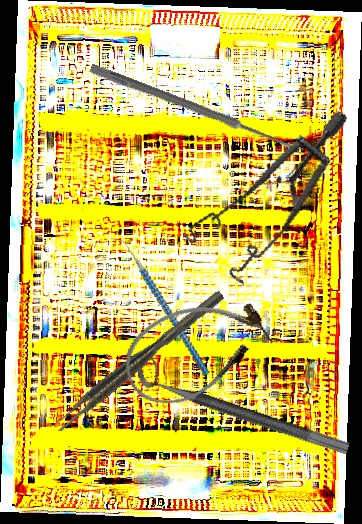Cannula: (110, 280, 281, 420)
Chopper: (109, 221, 211, 390)
Fixation Ring: (134, 351, 357, 457)
Speculum: (174, 80, 348, 301)
Surgical Spoon: (88, 63, 306, 156)
Tissue Forceps: (50, 289, 229, 435)
